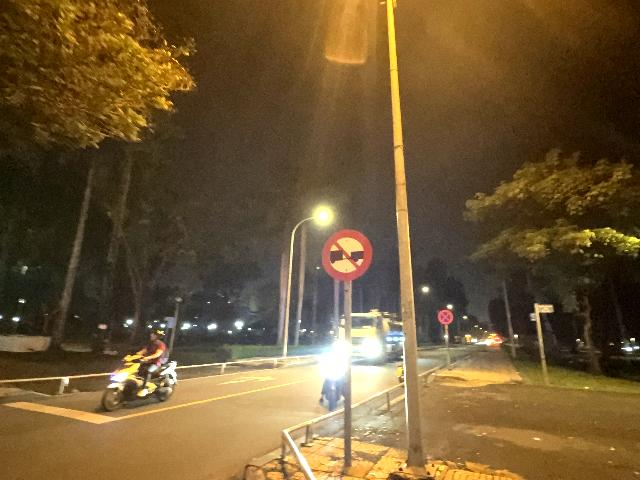cam-xe-somi-romooc: (322, 229, 373, 282)
